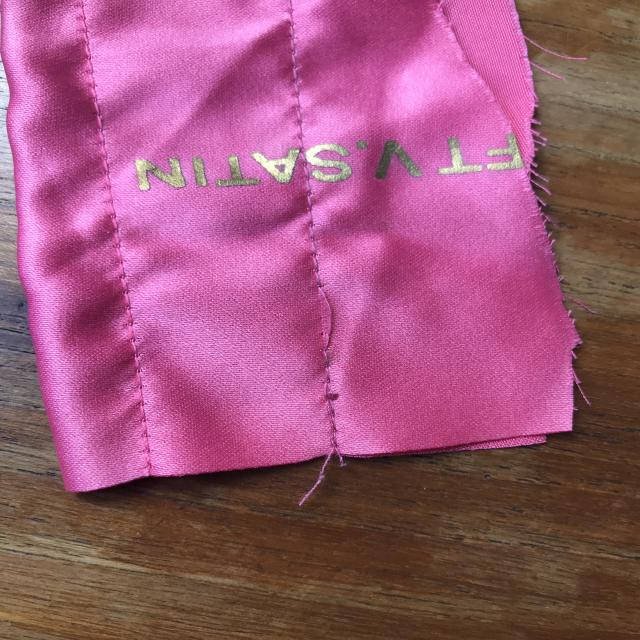skip: (309, 273, 349, 363)
